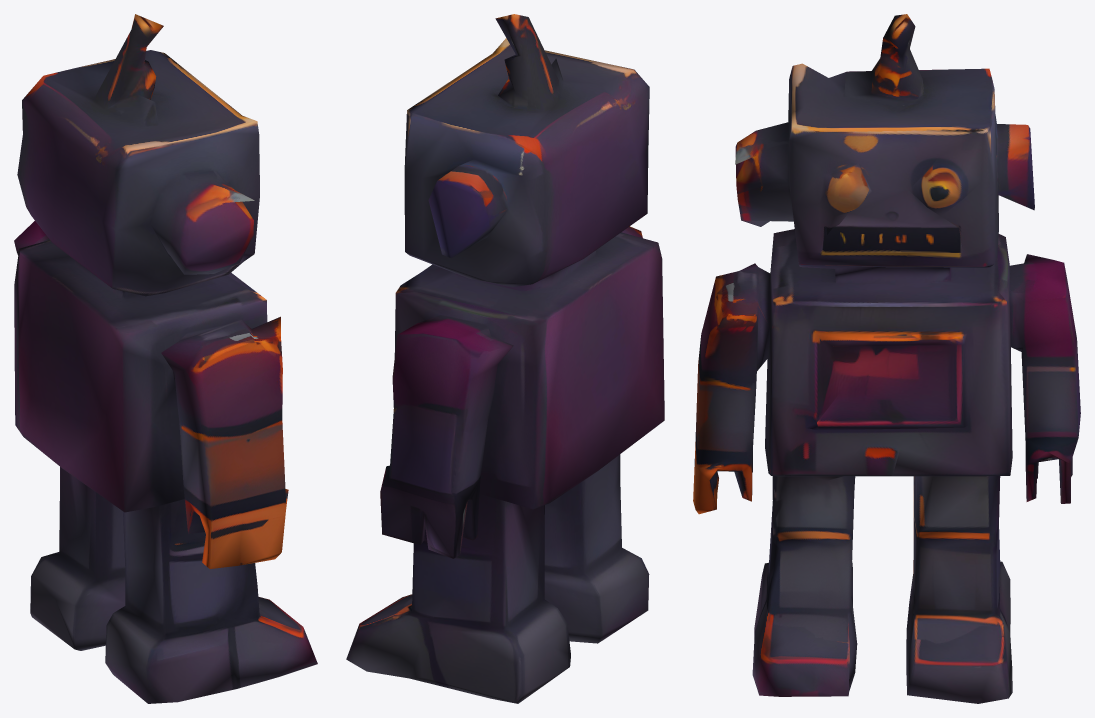
Rendered from retro+robot+3d+model.obj.
3 renders of one model, left to right at view 1: azimuth 30°, elevation 25°; view 2: azimuth 150°, elevation 25°; view 3: azimuth 270°, elevation 25°, orthographic. The views are drawn at different scales.
Parts seen in each view (by area): view 1: tripo_node_711d80de-77c6-454f-92ed-b2547fba321c; view 2: tripo_node_711d80de-77c6-454f-92ed-b2547fba321c; view 3: tripo_node_711d80de-77c6-454f-92ed-b2547fba321c.
Part boxes in pixels (x1,y1,x2,y2): tripo_node_711d80de-77c6-454f-92ed-b2547fba321c: (14, 14, 317, 703); tripo_node_711d80de-77c6-454f-92ed-b2547fba321c: (346, 14, 664, 703); tripo_node_711d80de-77c6-454f-92ed-b2547fba321c: (693, 14, 1080, 703).
Size of the model in its own units: 0.3278 by 1 by 0.5525.
1 material, 1 textured.
